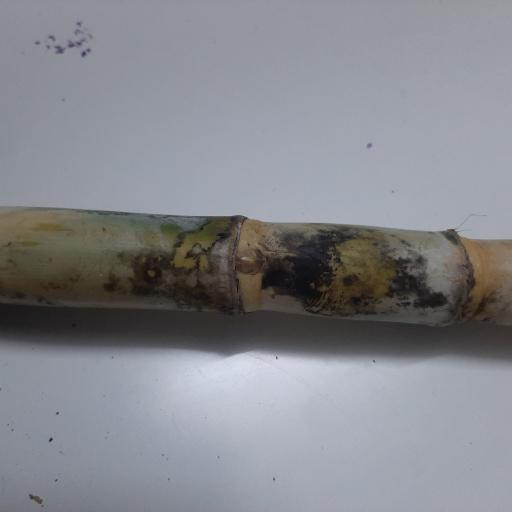Bud: (235, 249, 259, 273)
